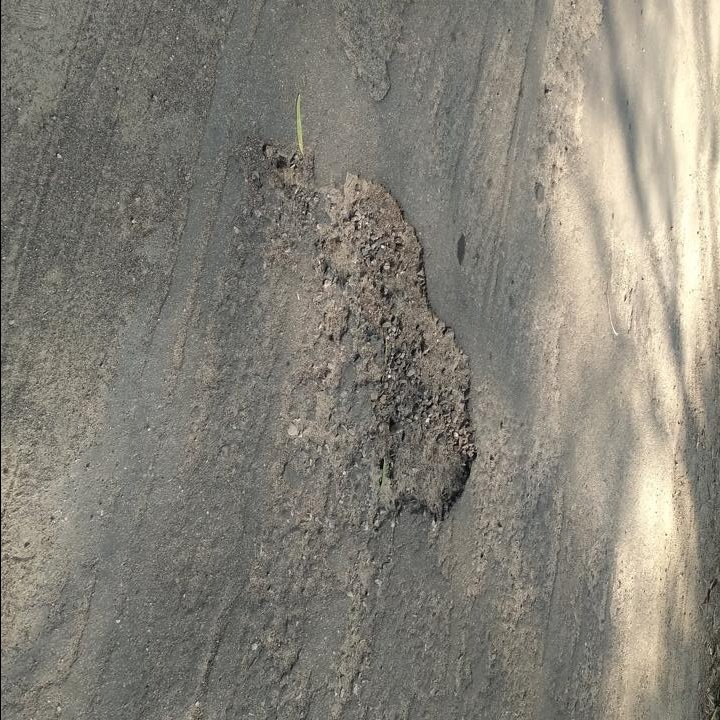pothole: (317, 167, 482, 531)
